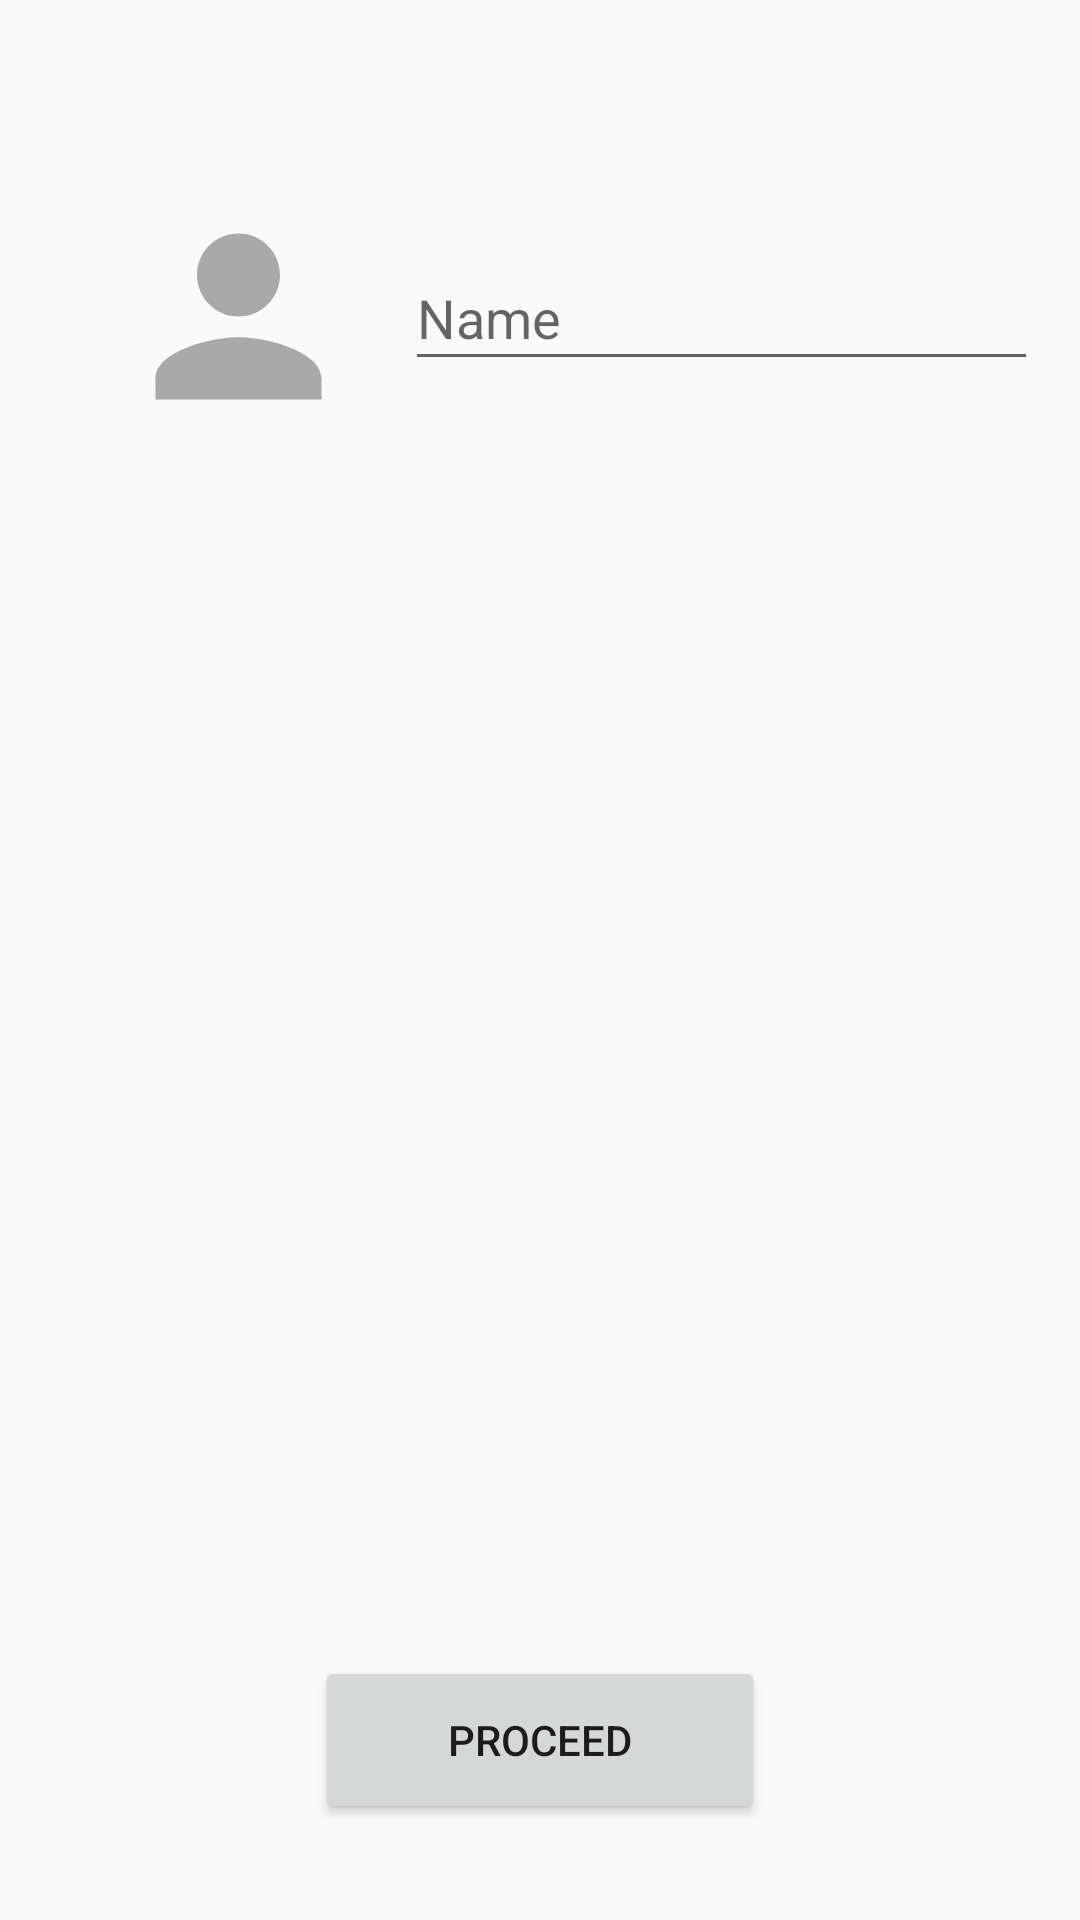

Icon bounding boxes for this 1080w x 1920h phone screenshot, format (x1, y1, x2, y2):
person: (155, 233, 322, 400)
